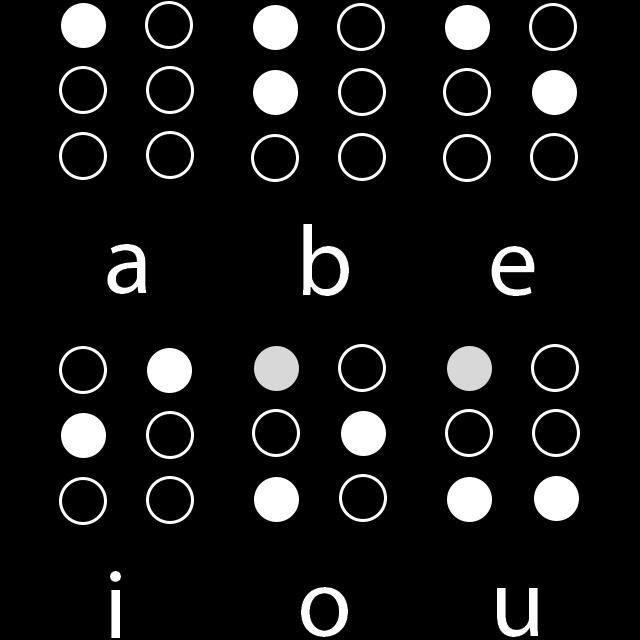A: (60, 1, 199, 184)
B: (253, 2, 387, 186)
E: (443, 3, 580, 185)
I: (57, 343, 199, 528)
O: (253, 342, 391, 525)
U: (444, 342, 584, 528)
